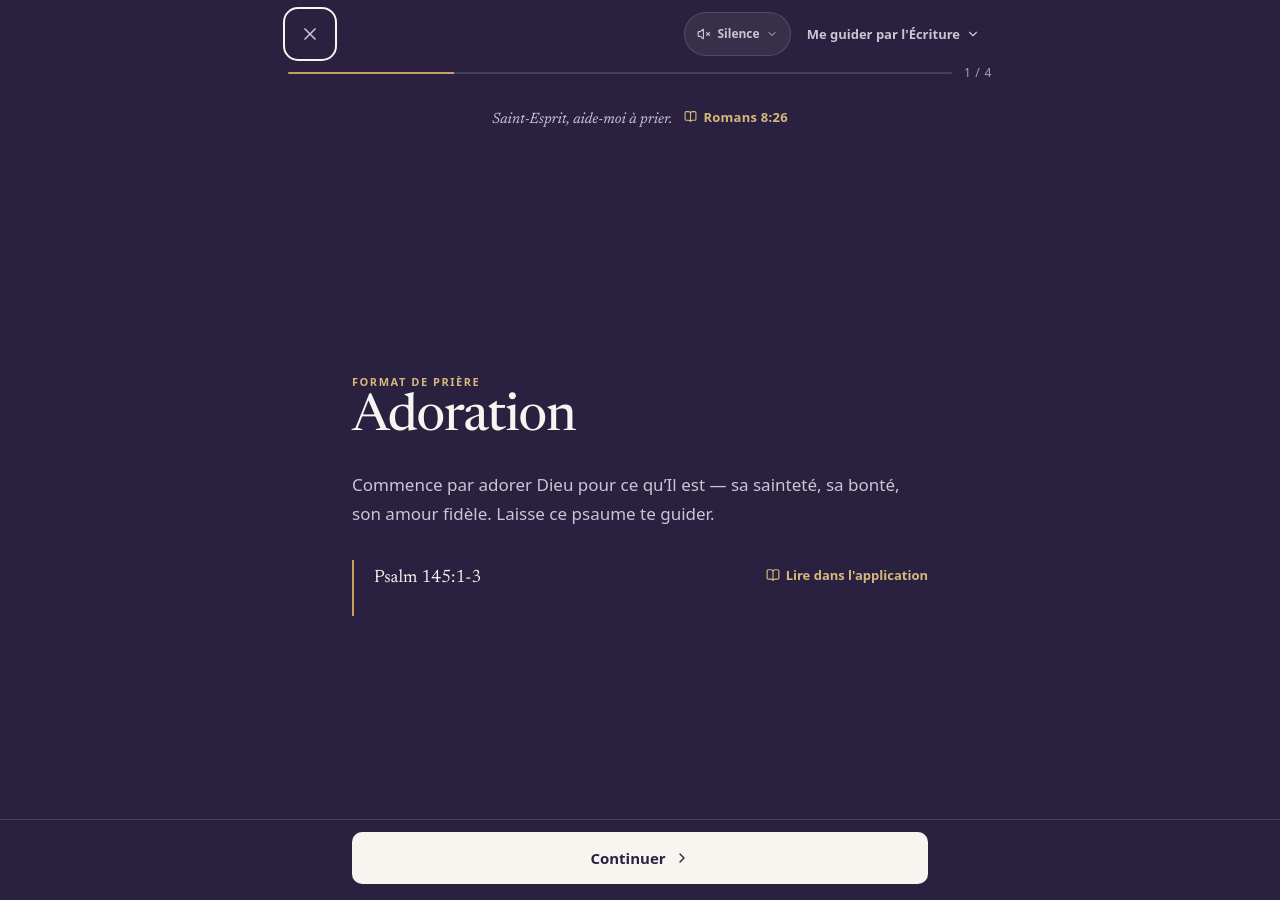
Test: PrayerSession — format change protects progress › switching to requests-only when every request is prayed completes the session
The width and height of the screenshot is (1280, 900).
Click the button "Continuer" at (640, 858), box [352, 832, 928, 884]
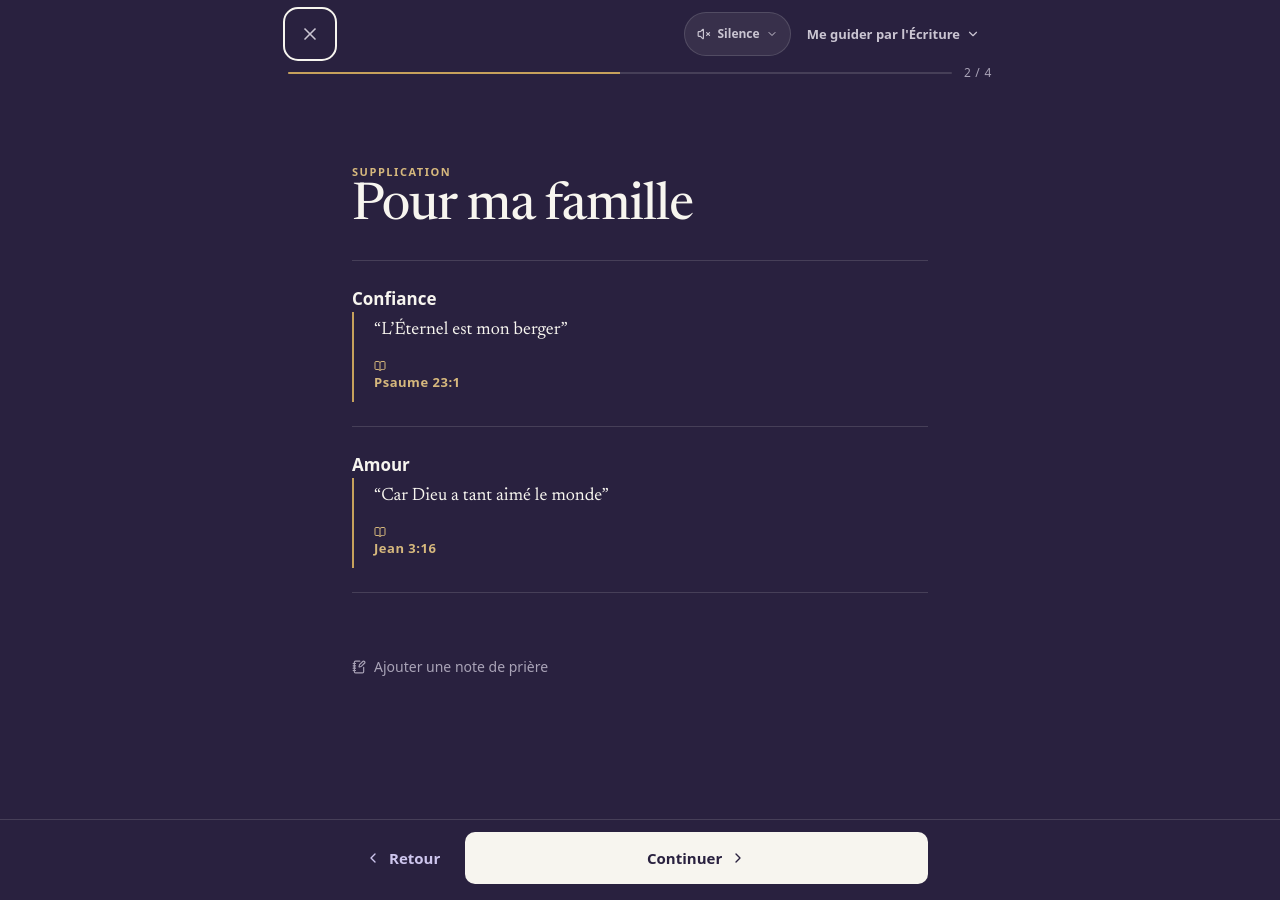
Click the button "Continuer" at (697, 858), box [465, 832, 928, 884]
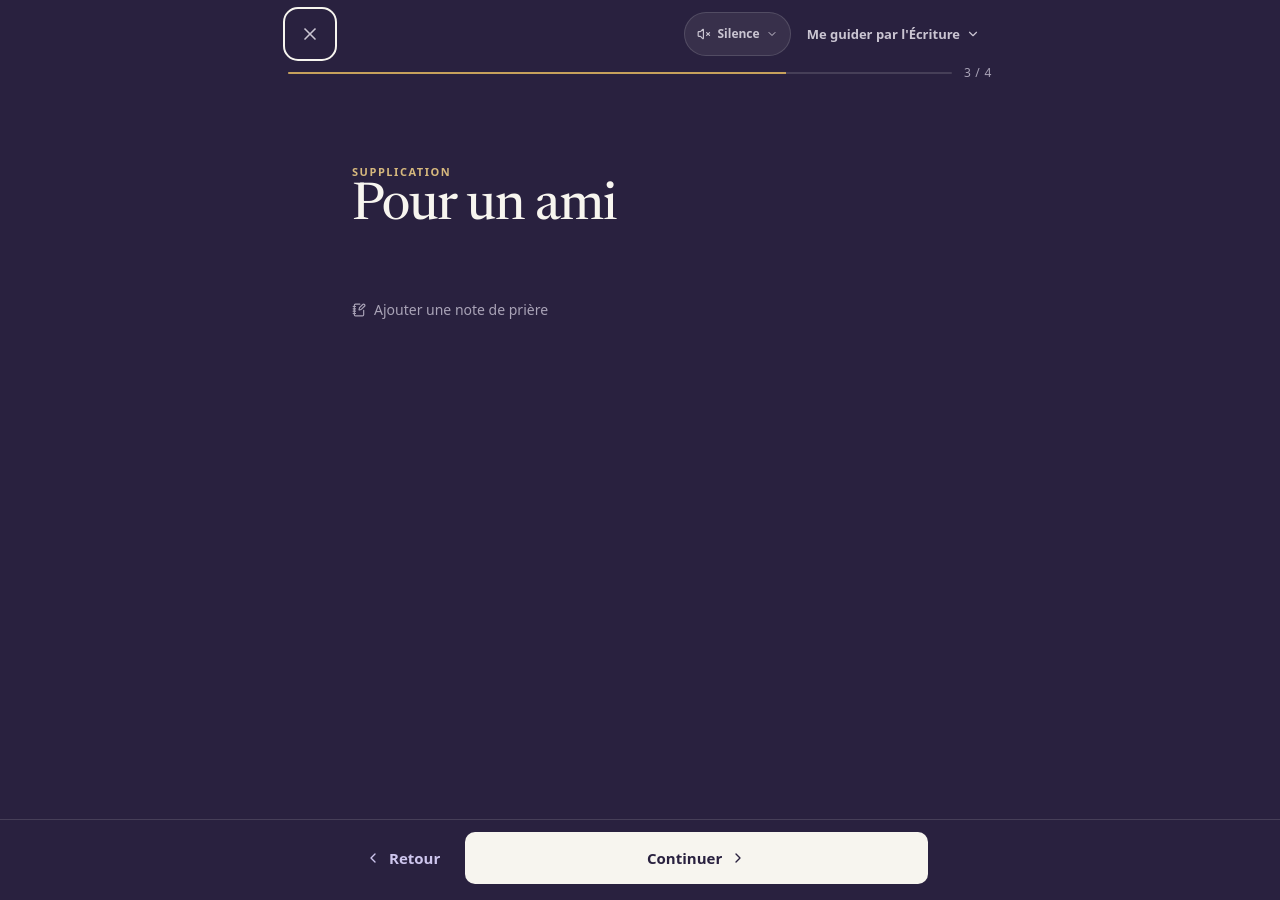
Click the button "Continuer" at (697, 858), box [465, 832, 928, 884]
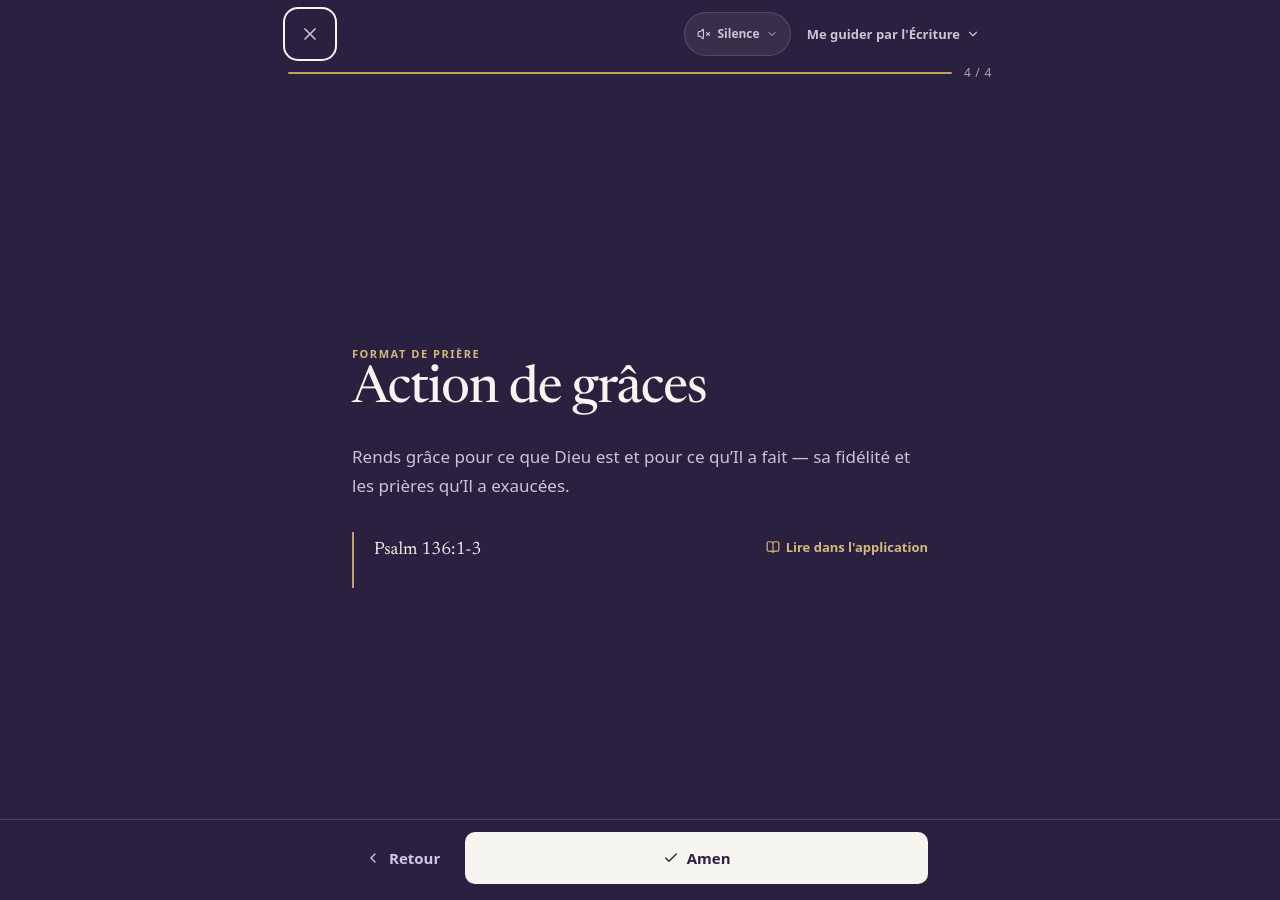
Result: the heading "Action de grâces" is shown at [352, 364, 707, 416]
Click the button titled "Format de prière" at (893, 34), box [795, 12, 992, 56]
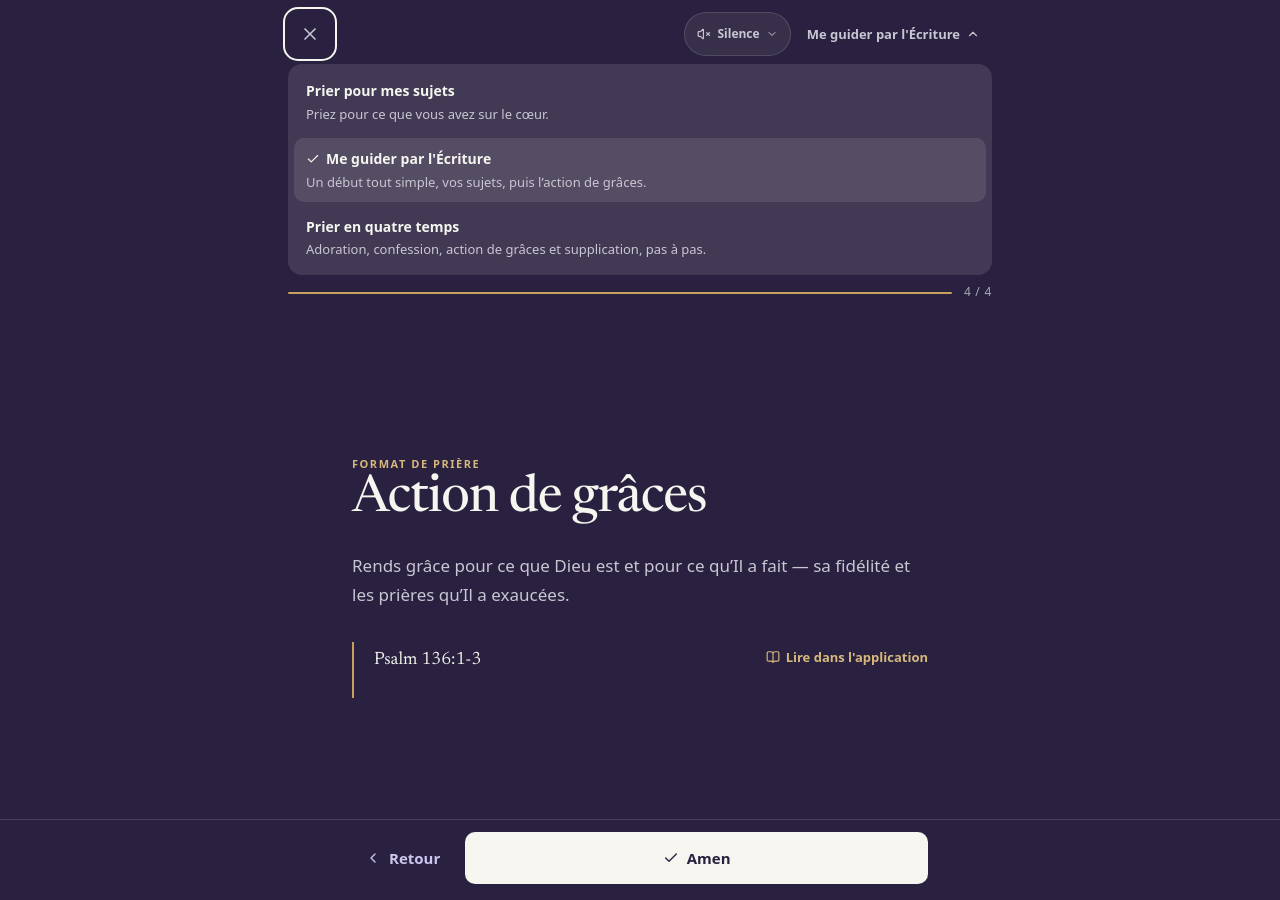
Click the text "Prier pour mes sujets" at (380, 90), box [306, 81, 455, 100]
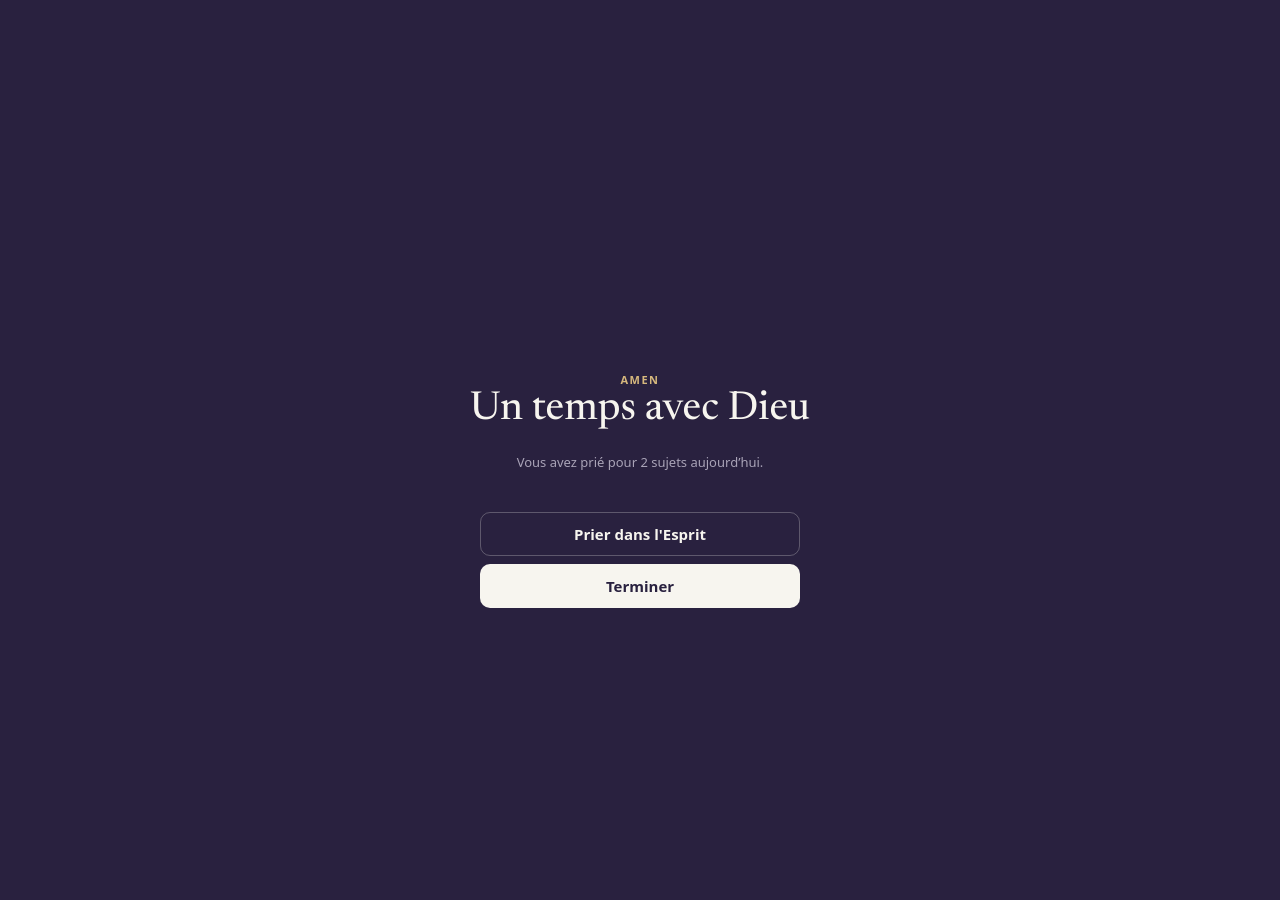
Result: the heading "Un temps avec Dieu" is shown at [470, 387, 810, 433]
